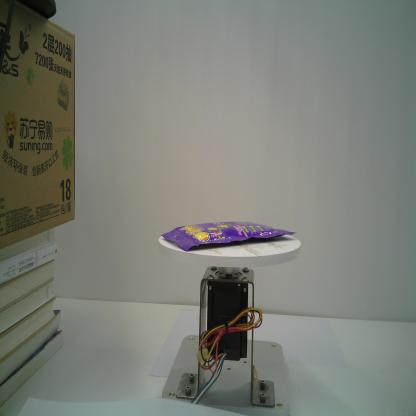Candy: (160, 220, 297, 252)
